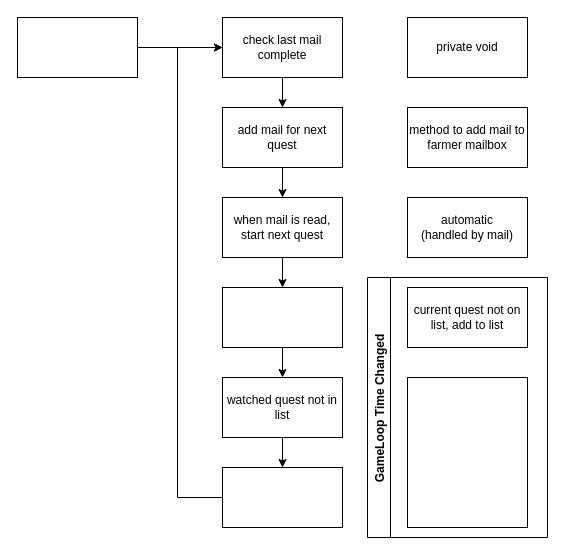
The diagram is 565 pixels wide and 555 high, and some of its shapes have lost their labels. The shapes that lost their labels are listed below. From the top down, each one's centre as x and y in pixels, then its label:
At point 77,47: "start".
At point 282,317: "add quest to watched list".
At point 467,452: "quest on list not active, Send completion mail".
At point 282,497: "send completion mail".
